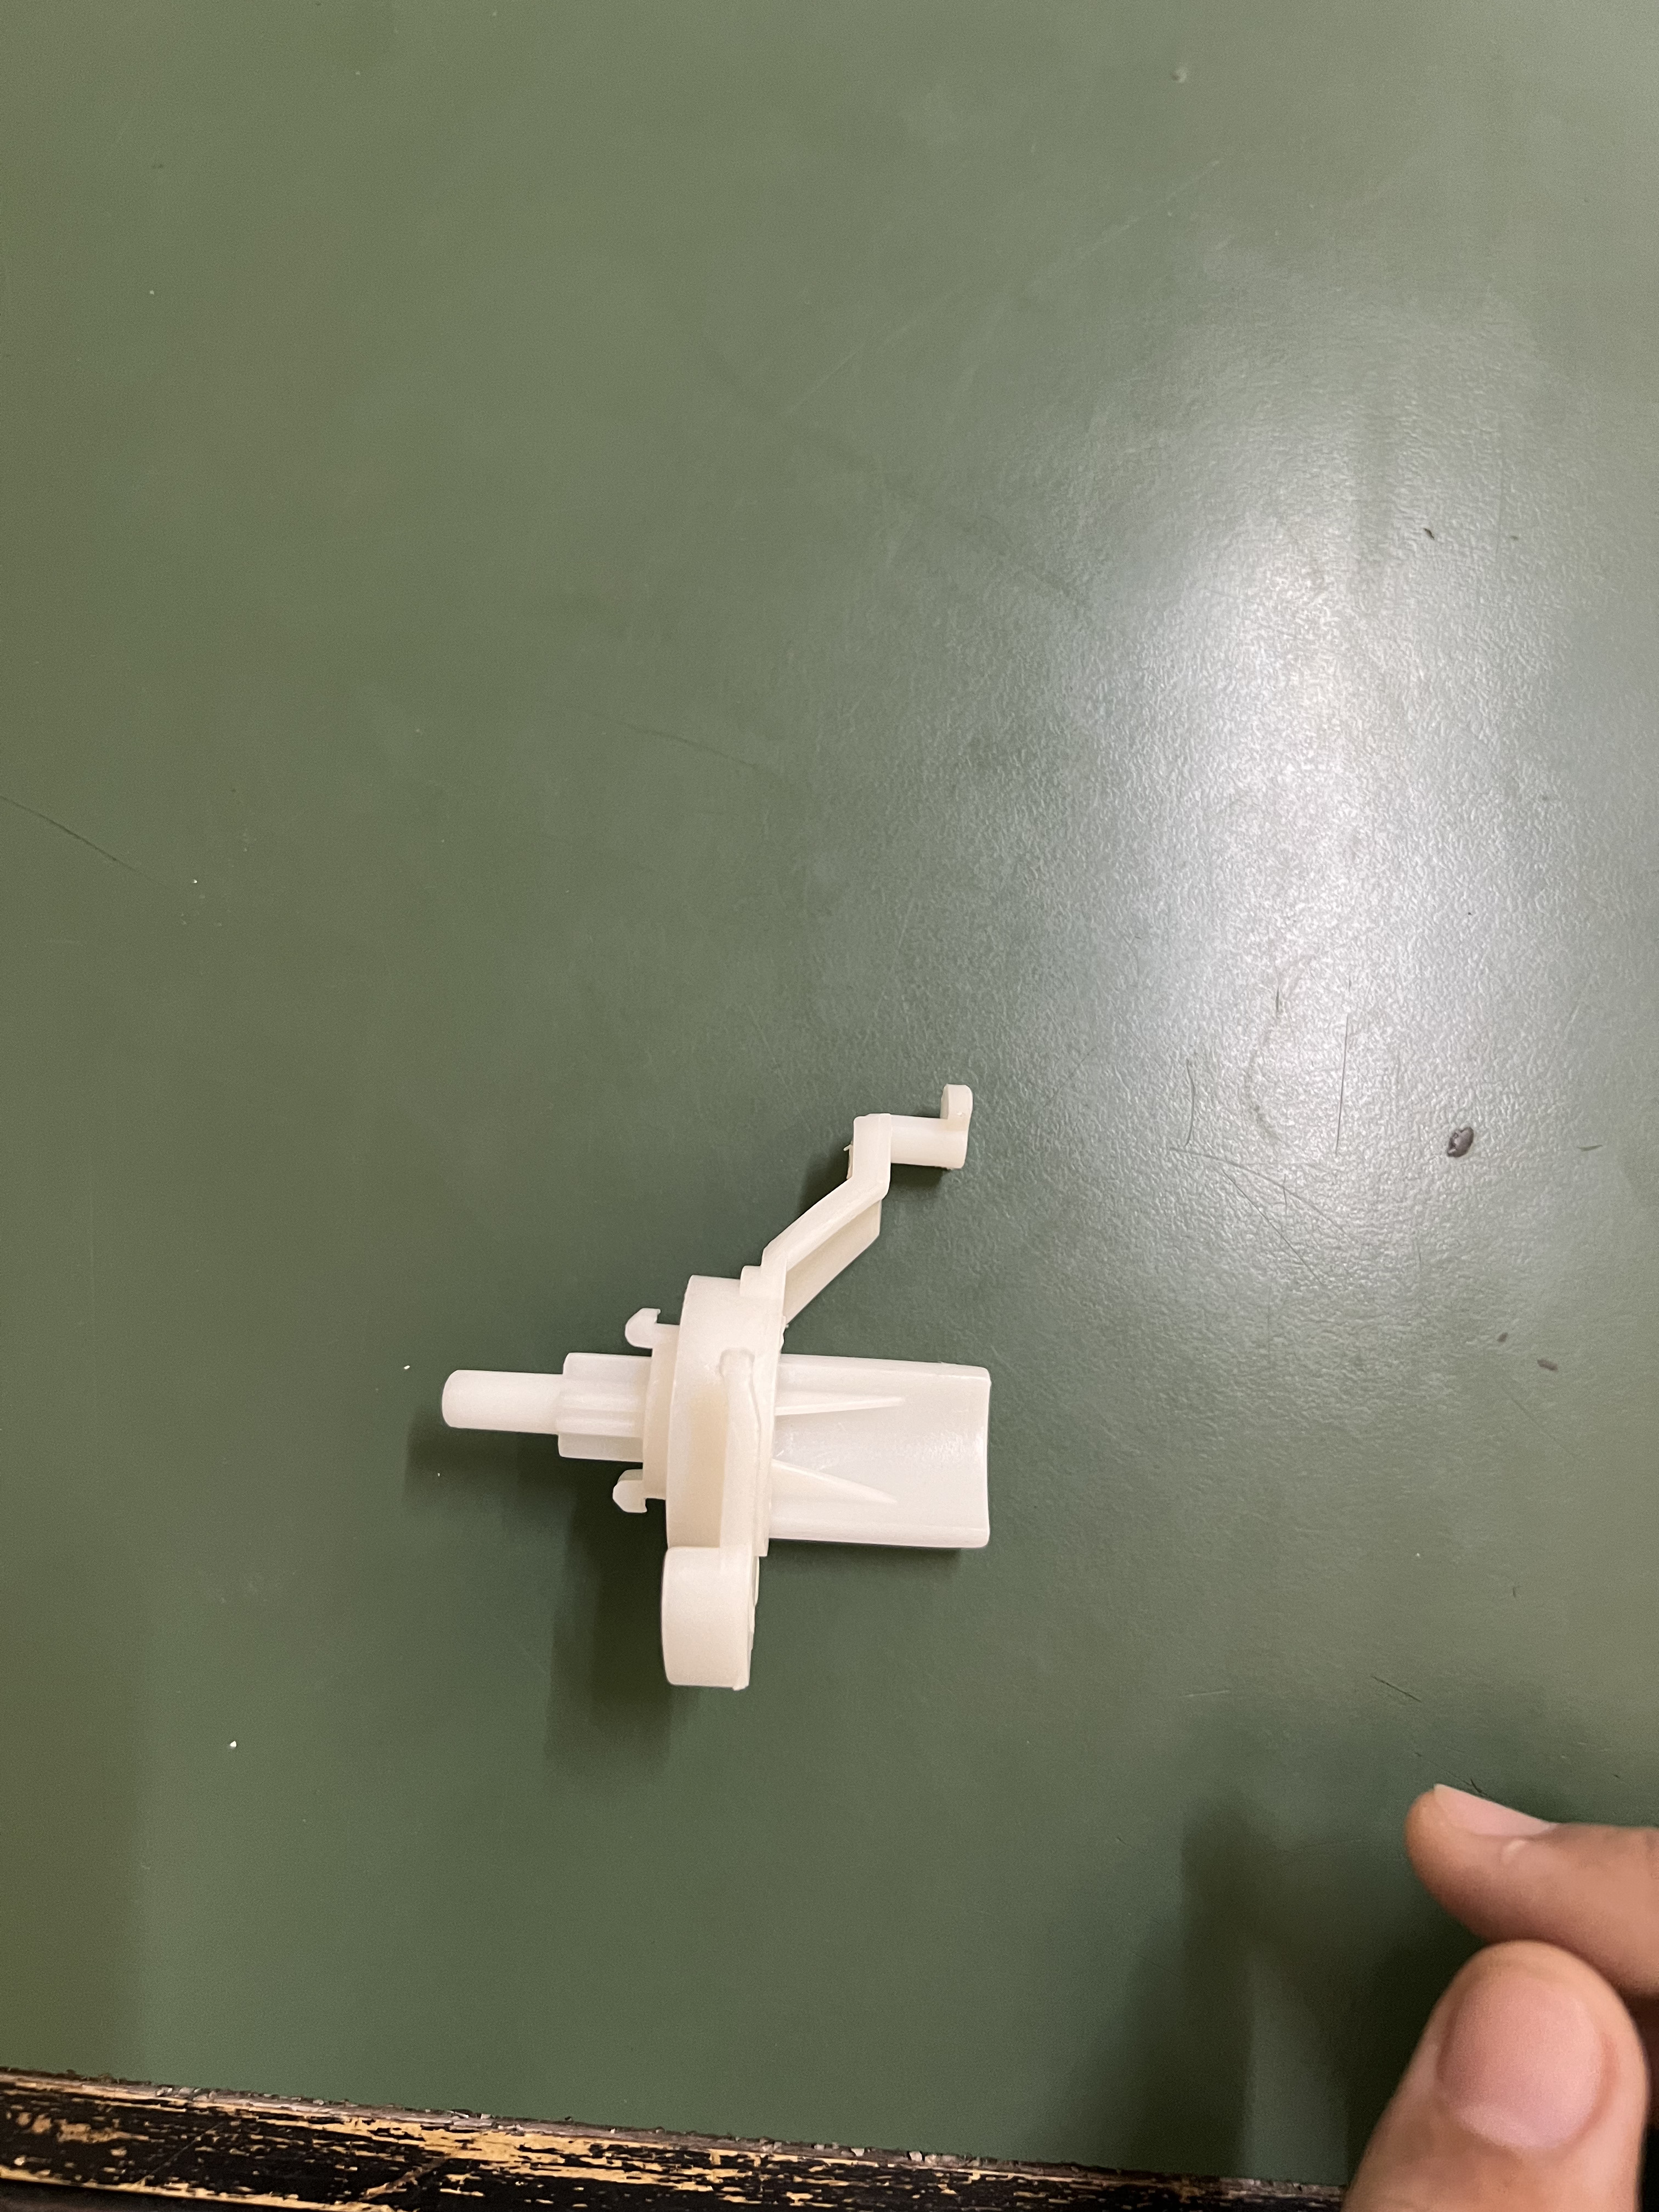drain_lever: (400, 1067, 1076, 1725)
